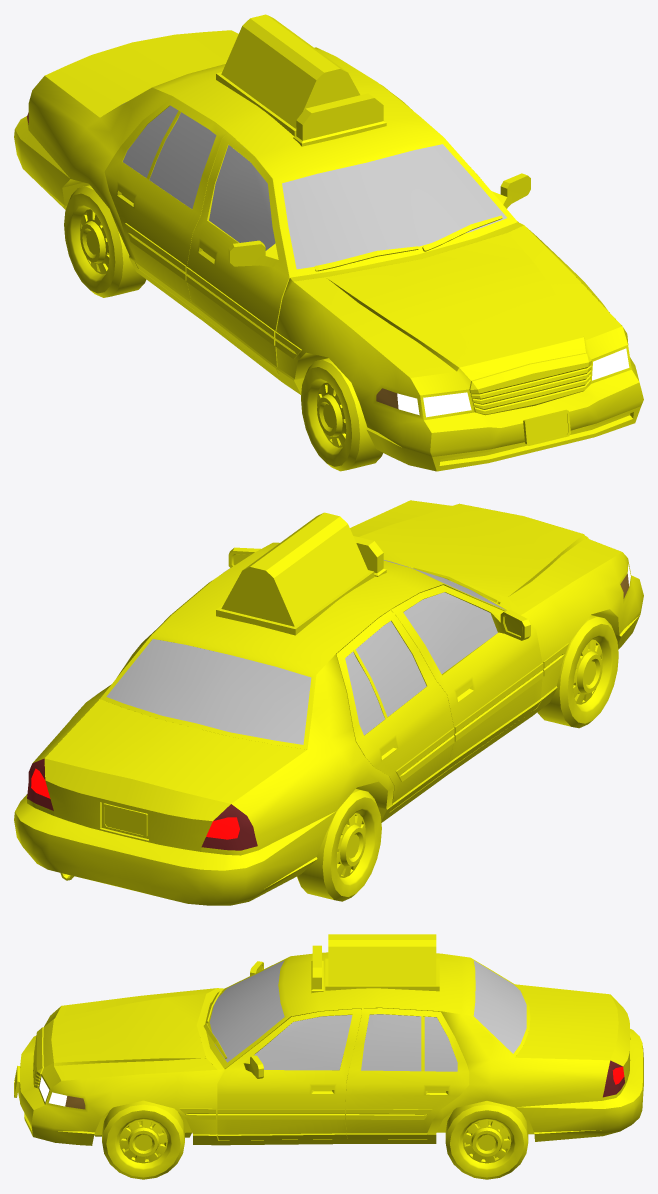
The model's file is us_taxi.glb.
3 views of the same model, one above another, from view 1: azimuth 30°, elevation 25°; view 2: azimuth 150°, elevation 25°; view 3: azimuth 270°, elevation 25° (orthographic). The views are drawn at different scales.
Parts seen in each view (by area): view 1: Taxi_base, Taxi_Hood, TDoor_FR, TDoor_BR, Taxi_Decal, Taxi_trunk, T_WheelFR, T_Wheels_B, TDoor_FL; view 2: Taxi_base, Taxi_trunk, Taxi_Hood, TDoor_FR, TDoor_BR, Taxi_Decal, T_Wheels_B, T_WheelFR; view 3: Taxi_base, TDoor_FL, TDoor_BL, Taxi_Hood, Taxi_trunk, Taxi_Decal, T_Wheels_B, T_WheelFL.
Boxes of the visible parts, x1=… form: Taxi_base: x1=14, y1=47, x2=643, y2=471; Taxi_Hood: x1=294, y1=225, x2=621, y2=377; TDoor_FR: x1=186, y1=133, x2=289, y2=374; TDoor_BR: x1=104, y1=97, x2=227, y2=308; Taxi_Decal: x1=216, y1=14, x2=359, y2=136; Taxi_trunk: x1=45, y1=30, x2=238, y2=117; T_WheelFR: x1=301, y1=358, x2=382, y2=471; T_Wheels_B: x1=64, y1=185, x2=146, y2=297; TDoor_FL: x1=393, y1=94, x2=530, y2=222; Taxi_base: x1=14, y1=507, x2=643, y2=905; Taxi_trunk: x1=44, y1=699, x2=306, y2=851; Taxi_Hood: x1=350, y1=500, x2=621, y2=613; TDoor_FR: x1=391, y1=585, x2=543, y2=771; TDoor_BR: x1=336, y1=610, x2=454, y2=811; Taxi_Decal: x1=216, y1=512, x2=374, y2=635; T_Wheels_B: x1=297, y1=789, x2=381, y2=901; T_WheelFR: x1=537, y1=615, x2=618, y2=728; Taxi_base: x1=14, y1=945, x2=643, y2=1145; TDoor_FL: x1=217, y1=1008, x2=361, y2=1140; TDoor_BL: x1=345, y1=1008, x2=469, y2=1139; Taxi_Hood: x1=51, y1=988, x2=216, y2=1080; Taxi_trunk: x1=515, y1=984, x2=630, y2=1085; Taxi_Decal: x1=325, y1=934, x2=439, y2=991; T_Wheels_B: x1=445, y1=1101, x2=528, y2=1179; T_WheelFL: x1=102, y1=1100, x2=184, y2=1179.
Bounding box in the file's own units: 2.16 × 1.86 × 5.4.
Materials: 10 (4 with a texture image).
